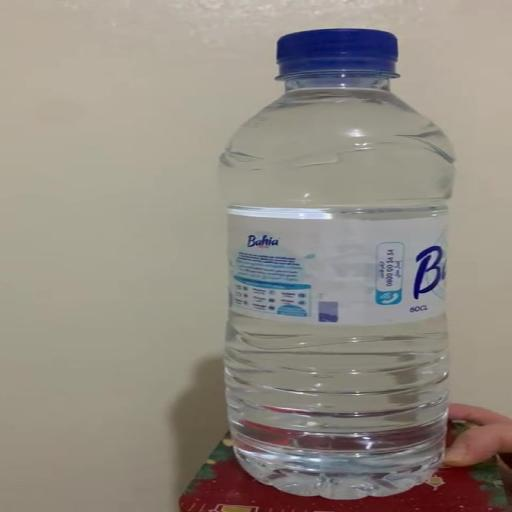bouteille conformite: (222, 29, 453, 499)
